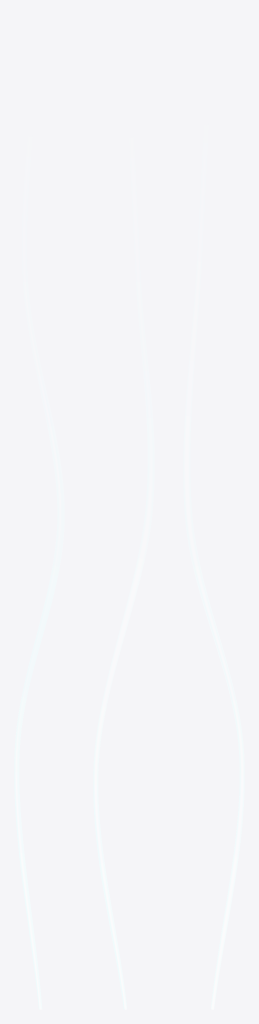
Rendered from strand_a_supply.glb.
The picture shows the model from 3 angles, left to right: view 1: azimuth 90°, elevation 25°; view 2: azimuth 150°, elevation 25°; view 3: azimuth 330°, elevation 25°; orthographic projection.
Size of the model in its own units: 0.3251 by 7 by 0.3223.
